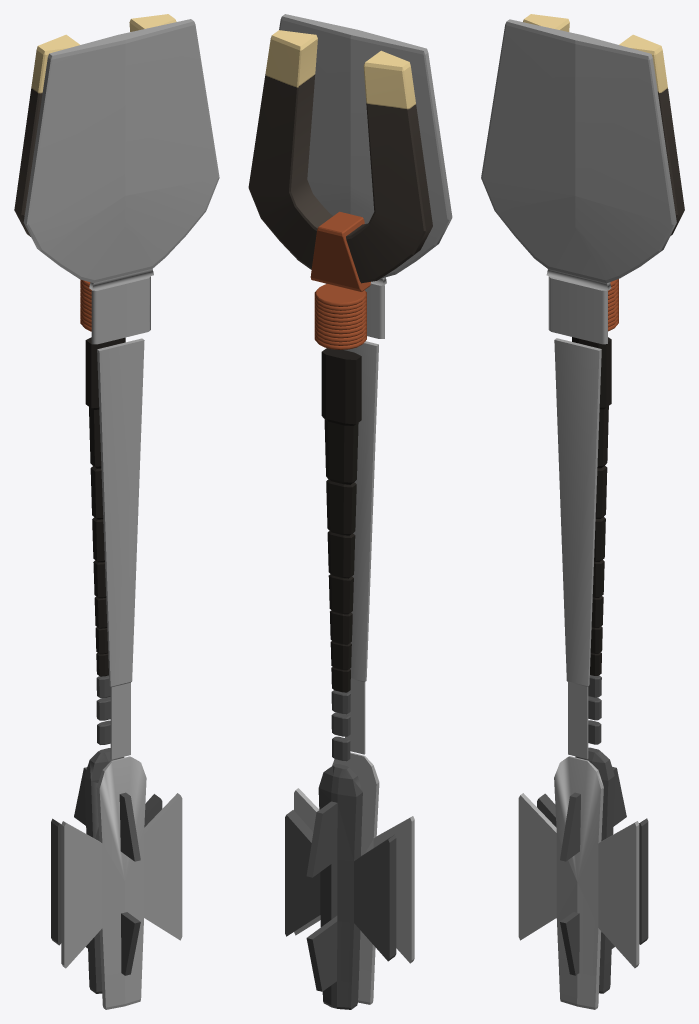
File: KeyMagnet_Set.fbx
3 renders of one model, left to right at view 1: azimuth 30°, elevation 25°; view 2: azimuth 150°, elevation 25°; view 3: azimuth 330°, elevation 25°, orthographic.
Visible parts, largest first — view 1: MagnetKey_Silhouette, MagnetKey_end, MagnetKey_Mid, MagnetKey_Top; view 2: MagnetKey_Silhouette, MagnetKey_Top, MagnetKey_end, MagnetKey_Mid; view 3: MagnetKey_Silhouette, MagnetKey_end, MagnetKey_Mid, MagnetKey_Top.
Boxes of the visible parts, left/top/right/bottom form: MagnetKey_Silhouette: left=23, top=19, right=219, bottom=1009; MagnetKey_end: left=51, top=748, right=162, bottom=993; MagnetKey_Mid: left=80, top=279, right=125, bottom=744; MagnetKey_Top: left=14, top=14, right=176, bottom=236; MagnetKey_Silhouette: left=279, top=14, right=452, bottom=1004; MagnetKey_Top: left=248, top=30, right=432, bottom=291; MagnetKey_end: left=285, top=764, right=396, bottom=1009; MagnetKey_Mid: left=314, top=284, right=366, bottom=761; MagnetKey_Silhouette: left=481, top=19, right=676, bottom=1009; MagnetKey_end: left=537, top=747, right=648, bottom=993; MagnetKey_Mid: left=572, top=279, right=618, bottom=744; MagnetKey_Top: left=523, top=14, right=684, bottom=235.
Bounding box in the file's own units: 33.44 × 160 × 18.32.
